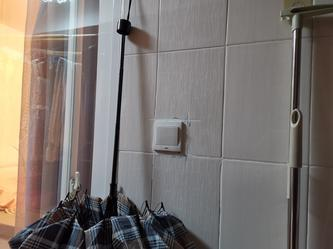switch: (152, 122, 181, 144)
